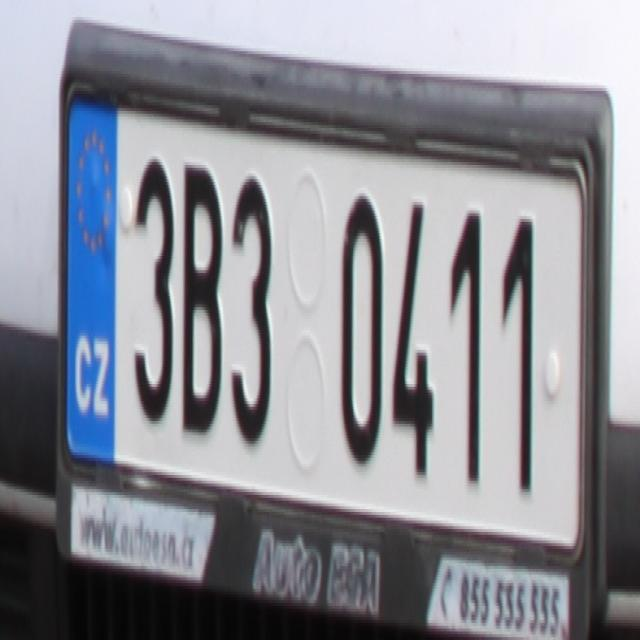0: (341, 194, 384, 466)
1: (499, 202, 538, 498), (448, 205, 487, 498)
3: (230, 171, 273, 452), (134, 153, 173, 430)
4: (391, 202, 434, 484)
B: (180, 154, 223, 435)
